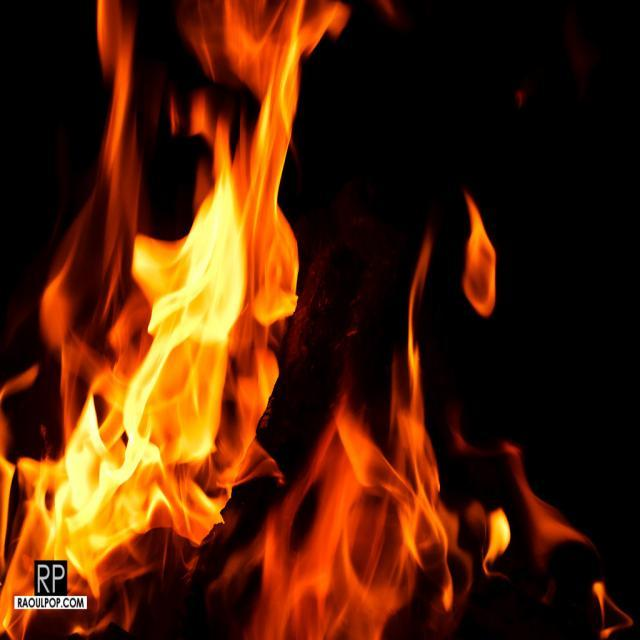Fire: (114, 233, 238, 517), (323, 416, 422, 626), (212, 6, 302, 205), (32, 358, 106, 546)
